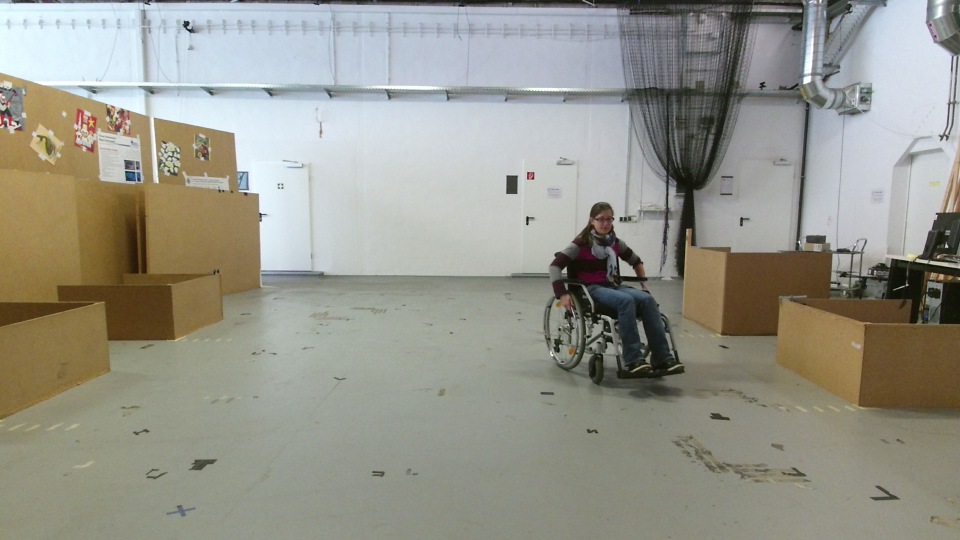wheelchair: (532, 196, 687, 386)
